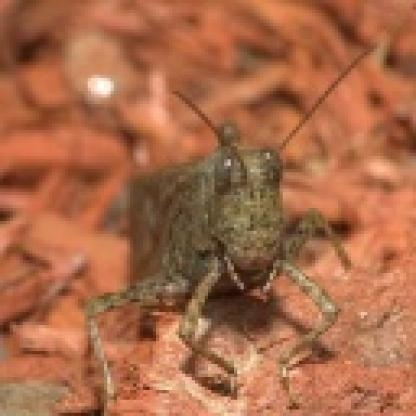grasshopper: (83, 78, 363, 402)
